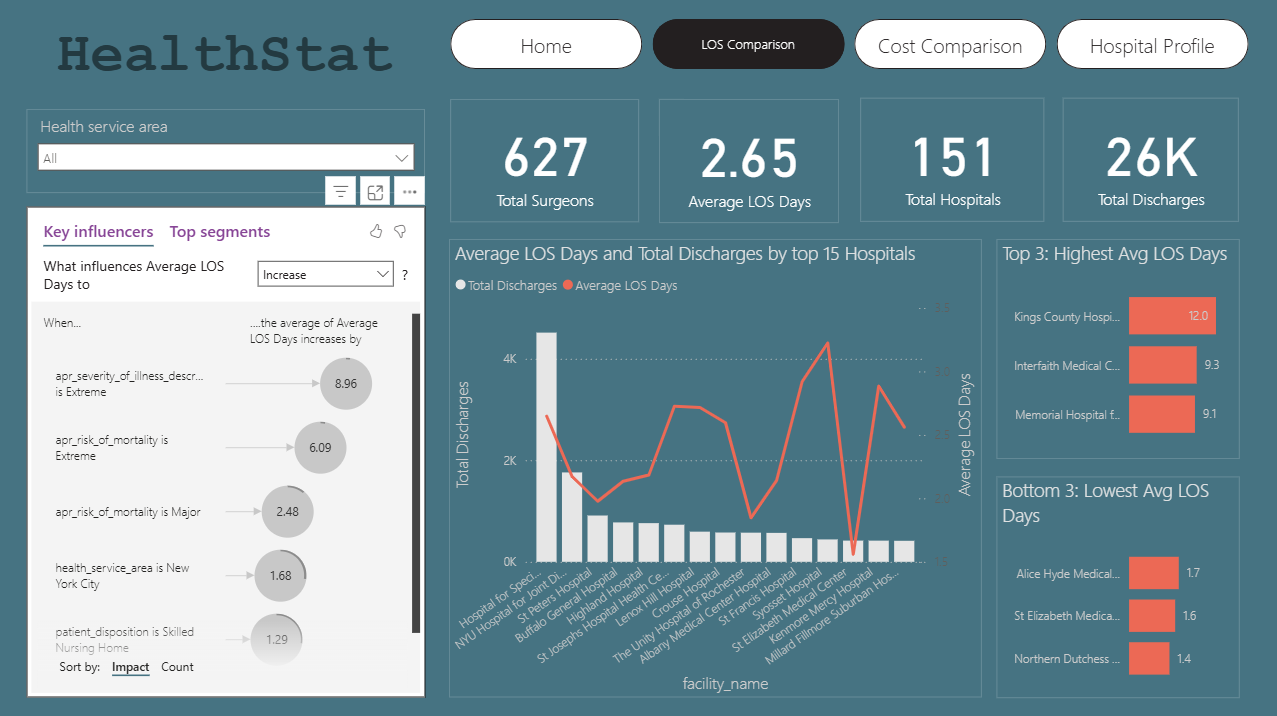

The page's visual inventory and layout, read from the dashboard file:
{"tool":"powerbi","page":{"name":"LOS Comparison","canvas":[1280,720],"ordinal":1},"visuals":[{"type":"card","fields":{"Values":["_Measures.Total Surgeons"]},"box":[451.4,100,188.6,122.9],"z":0},{"type":"lineStackedColumnComboChart","title":"Average LOS Days and Total Discharges by top 15 Hospitals","fields":{"Y":["_Measures.Total Discharges"],"Category":["hospital_discharges.facility_name"],"Y2":["_Measures.Average LOS Days"]},"box":[450,240,532.9,458.6],"z":1000},{"type":"slicer","fields":{"Values":["hospital_discharges.health_service_area"]},"box":[27.1,110,398.6,84.3],"z":2000},{"type":"keyDriversVisual","fields":{"ExplainBy":["hospital_discharges.apr_risk_of_mortality","hospital_discharges.apr_severity_of_illness_description","hospital_discharges.ccs_diagnosis_description","hospital_discharges.patient_disposition","hospital_discharges.gender","hospital_discharges.Age Bins","surgical_program_size_summary.Surgical Program Size","hospital_discharges.health_service_area"],"Target":["_Measures.Average LOS Days"]},"box":[27.1,207.1,398.6,491.4],"z":3000},{"type":"clusteredBarChart","title":"Top 3: Highest Avg LOS Days","fields":{"Category":["hospital_discharges.facility_name"],"Y":["_Measures.Average LOS Days"]},"box":[997.1,240,242.9,220],"z":4000},{"type":"clusteredBarChart","title":"Bottom 3: Lowest Avg LOS Days","fields":{"Category":["hospital_discharges.facility_name"],"Y":["_Measures.Average LOS Days"]},"box":[997.1,477.1,242.9,221.4],"z":5000},{"type":"card","fields":{"Values":["_Measures.Average LOS Days"]},"box":[660,100,180,124.3],"z":6000},{"type":"card","fields":{"Values":["_Measures.Total Hospitals"]},"box":[861.4,98.6,184.3,124.3],"z":7000},{"type":"card","fields":{"Values":["_Measures.Total Discharges"]},"box":[1064.3,98.6,175.7,124.3],"z":8000},{"type":"pageNavigator","box":[451.4,20,800,50],"z":9000},{"type":"textbox","box":[0,20,451.4,80],"z":9001}]}

Visuals, with their boxes in screenshot pixels (x1, y1, x2, y2), scaled from the page's 1280x720 canvas onto the 1277x716 screenshot:
card - _Measures.Total Surgeons: box=[450, 99, 638, 222]
"Average LOS Days and Total Discharges by top 15 Hospitals" lineStackedColumnComboChart: box=[449, 239, 981, 695]
slicer - hospital_discharges.health_service_area: box=[27, 109, 425, 193]
keyDriversVisual - hospital_discharges.apr_risk_of_mortality x hospital_discharges.apr_severity_of_illness_description: box=[27, 206, 425, 695]
"Top 3: Highest Avg LOS Days" clusteredBarChart: box=[995, 239, 1237, 457]
"Bottom 3: Lowest Avg LOS Days" clusteredBarChart: box=[995, 474, 1237, 695]
card - _Measures.Average LOS Days: box=[658, 99, 838, 223]
card - _Measures.Total Hospitals: box=[859, 98, 1043, 222]
card - _Measures.Total Discharges: box=[1062, 98, 1237, 222]
pageNavigator: box=[450, 20, 1248, 70]
textbox: box=[0, 20, 450, 99]
